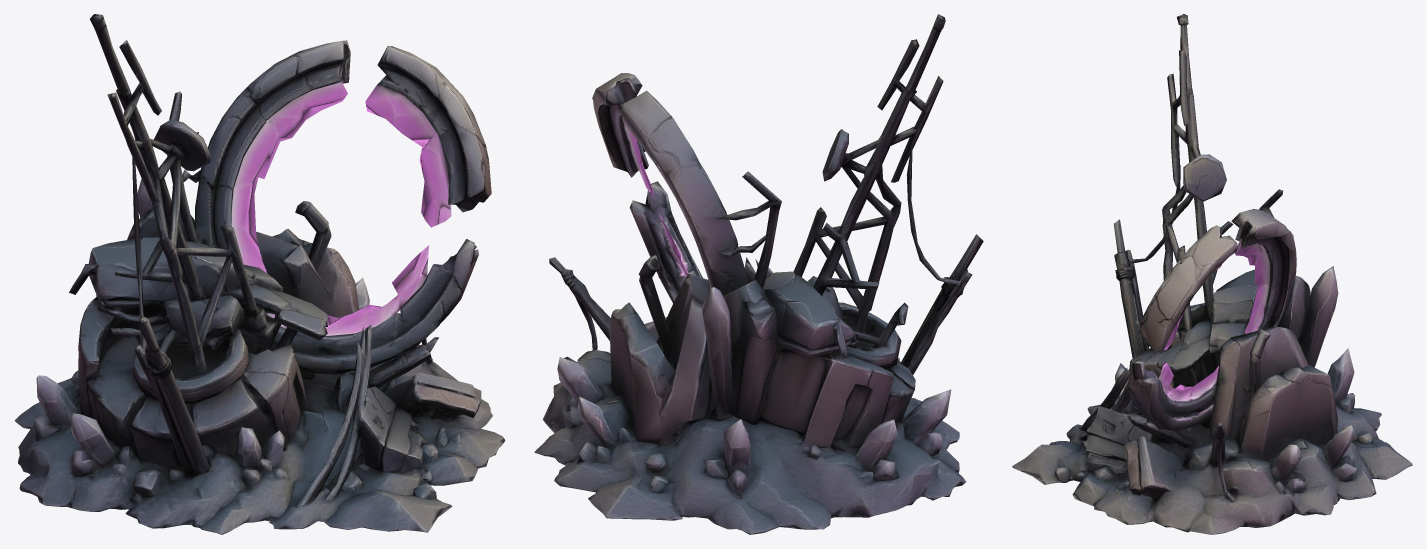
Rendered from 中景近景_星火环2.glb.
3 renders of one model, left to right at view 1: azimuth 30°, elevation 25°; view 2: azimuth 150°, elevation 25°; view 3: azimuth 270°, elevation 25°, orthographic. The views are drawn at different scales.
Visible parts, largest first — view 1: tripo_node_7c7e710c-c0b8-4dd7-88ba-12d4c73aacb0; view 2: tripo_node_7c7e710c-c0b8-4dd7-88ba-12d4c73aacb0; view 3: tripo_node_7c7e710c-c0b8-4dd7-88ba-12d4c73aacb0.
Part boxes in pixels (x1=…): tripo_node_7c7e710c-c0b8-4dd7-88ba-12d4c73aacb0: x1=14, y1=14, x2=505, y2=534; tripo_node_7c7e710c-c0b8-4dd7-88ba-12d4c73aacb0: x1=534, y1=14, x2=983, y2=534; tripo_node_7c7e710c-c0b8-4dd7-88ba-12d4c73aacb0: x1=1012, y1=14, x2=1412, y2=534.
Bounding box in the file's own units: 0.9534 × 1 × 0.9726.
1 material, 1 textured.
